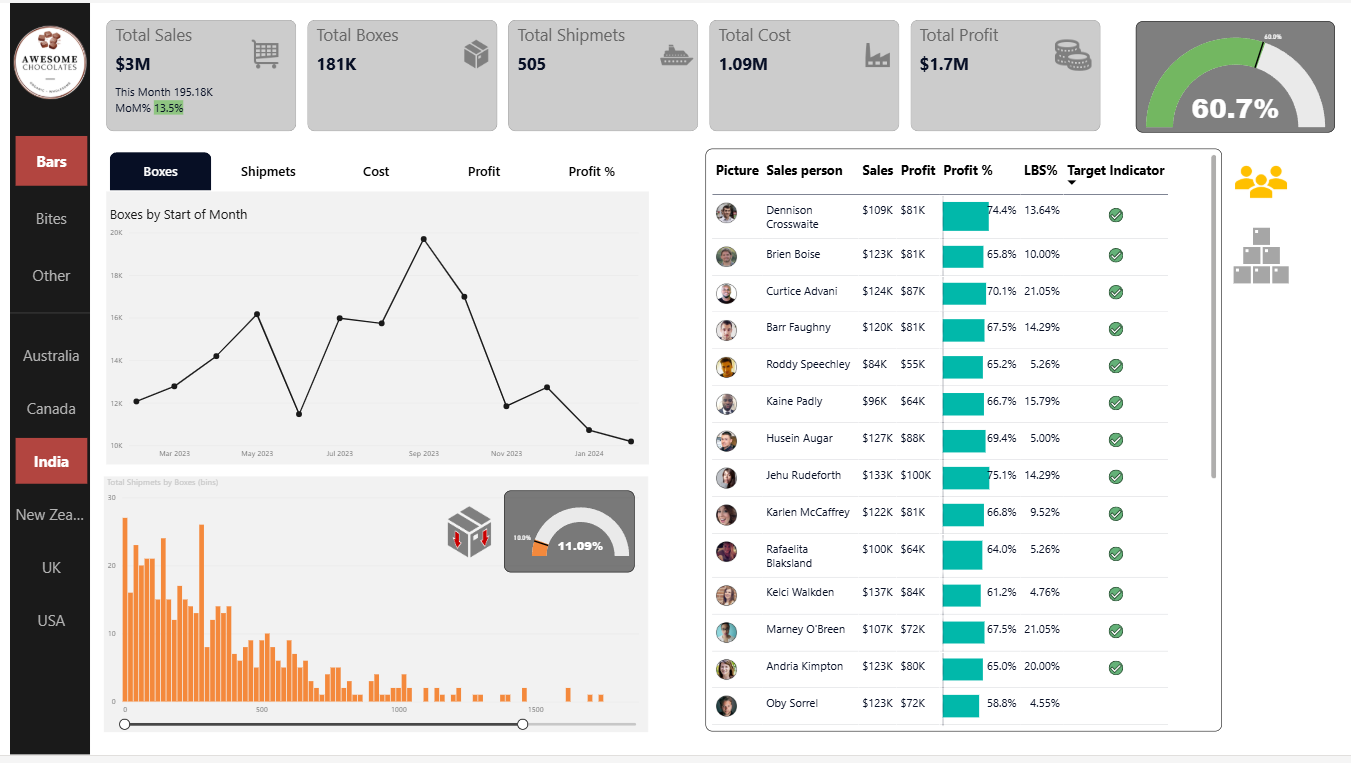

The dashboard page shown, as its layout file describes it:
{"tool":"powerbi","page":{"name":"Sales Report","canvas":[1920,1080],"ordinal":2},"visuals":[{"type":"image","title":"Products Unselected Icon","box":[1742.5,317.5,110,90],"z":0},{"type":"shape","box":[0,0,115,1080],"z":2000},{"type":"cardVisual","fields":{"Data":["_Measures.Total Sales","_Measures.Total Boxes","_Measures.Total Shipmets","_Measures.Total Cost","_Measures.Total Profit"]},"box":[137.5,25,1430,160],"z":3000},{"type":"image","box":[327.5,42.5,82.5,60],"z":4000},{"type":"image","box":[1485,45,82.5,60],"z":5000},{"type":"image","box":[1207.5,45,80,60],"z":6000},{"type":"image","box":[917.5,45,82.5,60],"z":7000},{"type":"image","box":[630,42.5,80,60],"z":8000},{"type":"gauge","fields":{"Y":["_Measures.Profit %"]},"box":[1618,26,286,160],"z":9000},{"type":"lineChart","fields":{"Category":["calendar.Start of Month"],"Y":["_Measures.Total Boxes"]},"box":[137.5,270,780,392.5],"z":10000},{"type":"advancedSlicerVisual","fields":{"Values":["Measure Selector.Measure Selector"]},"box":[137.5,210,780,60],"z":11000},{"type":"image","box":[0,25,115,122.5],"z":12000},{"type":"clusteredColumnChart","fields":{"Category":["shipments.Boxes (bins)"],"Y":["_Measures.Total Shipmets"]},"box":[135,680,782.5,367.5],"z":13000},{"type":"gauge","fields":{"Y":["_Measures.LBS%"]},"box":[710,700,187.5,117.5],"z":14000},{"type":"image","box":[587.5,710,147.5,100],"z":15000},{"type":"tableEx","title":"People Details","fields":{"Values":["people.Picture","people.Sales person","_Measures.Total Sales","_Measures.Total Profit","_Measures.Profit %","_Measures.LBS%","_Measures.Profit Target Indicator"]},"box":[1000,210,742.5,837.5],"z":16000},{"type":"image","title":"People Icon","box":[1742.5,210,110,95],"z":18000},{"type":"listSlicer","fields":{"Values":["products.Category"]},"box":[2.5,185,115,250],"z":20000},{"type":"listSlicer","fields":{"Values":["locations.Geo"]},"box":[2.5,467.5,115,460],"z":21000},{"type":"shape","box":[0,412.5,115,65],"z":22000}]}

Visuals, with their boxes on the page's 1920x1080 design canvas (x1, y1, x2, y2). These are canvas units, not pixel positions in the 1351x763 screenshot, which may show the page scaled, cropped or inside an application window:
"Products Unselected Icon" image: left=1742, top=318, right=1852, bottom=408
shape: left=0, top=0, right=115, bottom=1080
cardVisual - _Measures.Total Sales x _Measures.Total Boxes: left=138, top=25, right=1568, bottom=185
image: left=328, top=42, right=410, bottom=102
image: left=1485, top=45, right=1568, bottom=105
image: left=1208, top=45, right=1288, bottom=105
image: left=918, top=45, right=1000, bottom=105
image: left=630, top=42, right=710, bottom=102
gauge - _Measures.Profit %: left=1618, top=26, right=1904, bottom=186
lineChart - calendar.Start of Month x _Measures.Total Boxes: left=138, top=270, right=918, bottom=662
advancedSlicerVisual - Measure Selector.Measure Selector: left=138, top=210, right=918, bottom=270
image: left=0, top=25, right=115, bottom=148
clusteredColumnChart - shipments.Boxes (bins) x _Measures.Total Shipmets: left=135, top=680, right=918, bottom=1048
gauge - _Measures.LBS%: left=710, top=700, right=898, bottom=818
image: left=588, top=710, right=735, bottom=810
"People Details" tableEx: left=1000, top=210, right=1742, bottom=1048
"People Icon" image: left=1742, top=210, right=1852, bottom=305
listSlicer - products.Category: left=2, top=185, right=118, bottom=435
listSlicer - locations.Geo: left=2, top=468, right=118, bottom=928
shape: left=0, top=412, right=115, bottom=478
